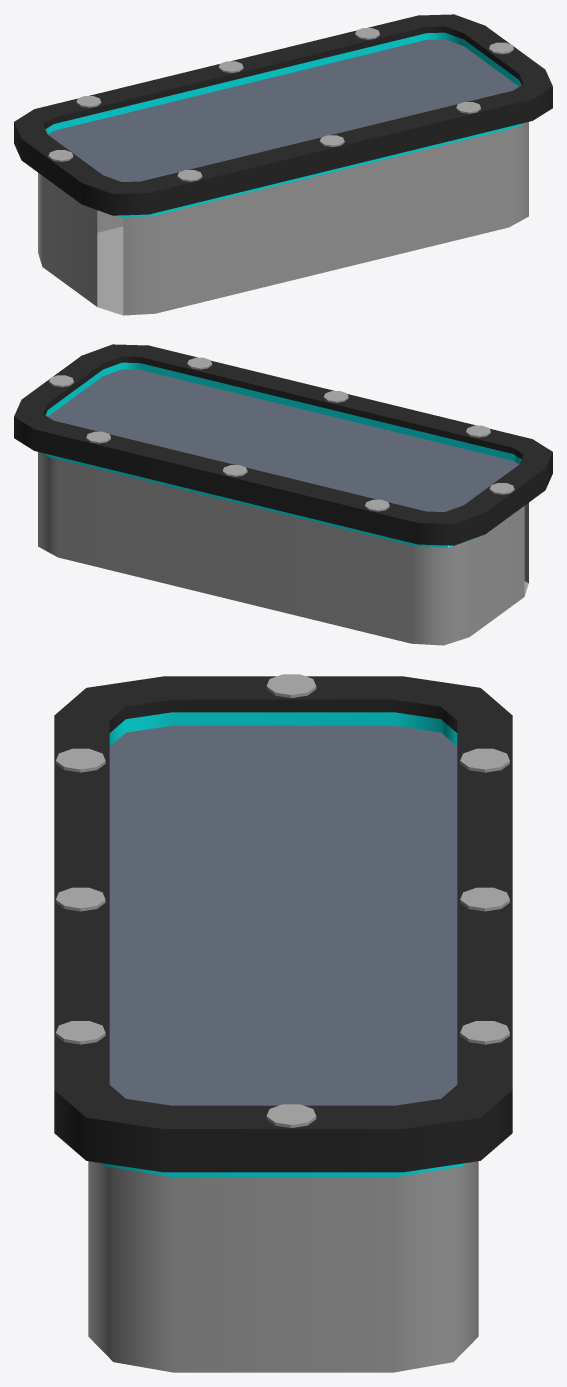
Rendered from MeetingTable_01.fbx.
The picture shows the model from 3 angles, top to bottom: view 1: azimuth 30°, elevation 25°; view 2: azimuth 150°, elevation 25°; view 3: azimuth 270°, elevation 25°; orthographic projection. The views are drawn at different scales.
Visible parts, largest first — view 1: MeetingTable_01; view 2: MeetingTable_01; view 3: MeetingTable_01.
Boxes of the visible parts, <box> form: MeetingTable_01: <box>14,14,552,315</box>; MeetingTable_01: <box>14,344,552,645</box>; MeetingTable_01: <box>54,674,512,1372</box>.
Bounding box in the file's own units: 869 × 237 × 372.
